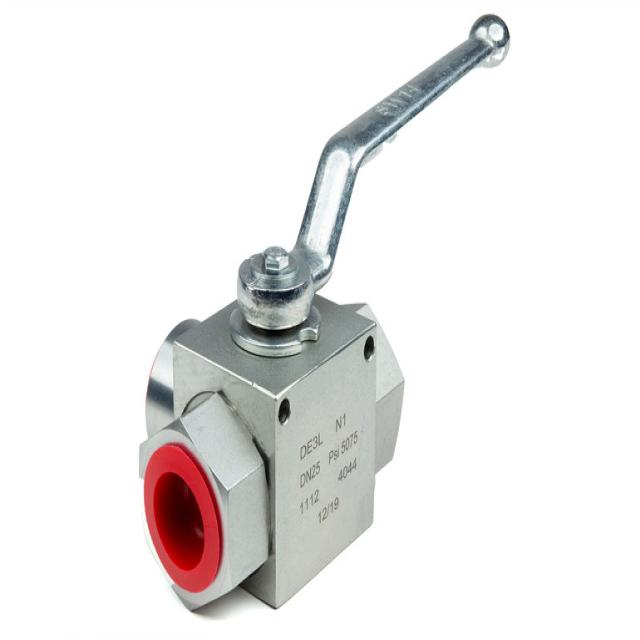Lever Handle Valve Threaded: (130, 3, 526, 366)
